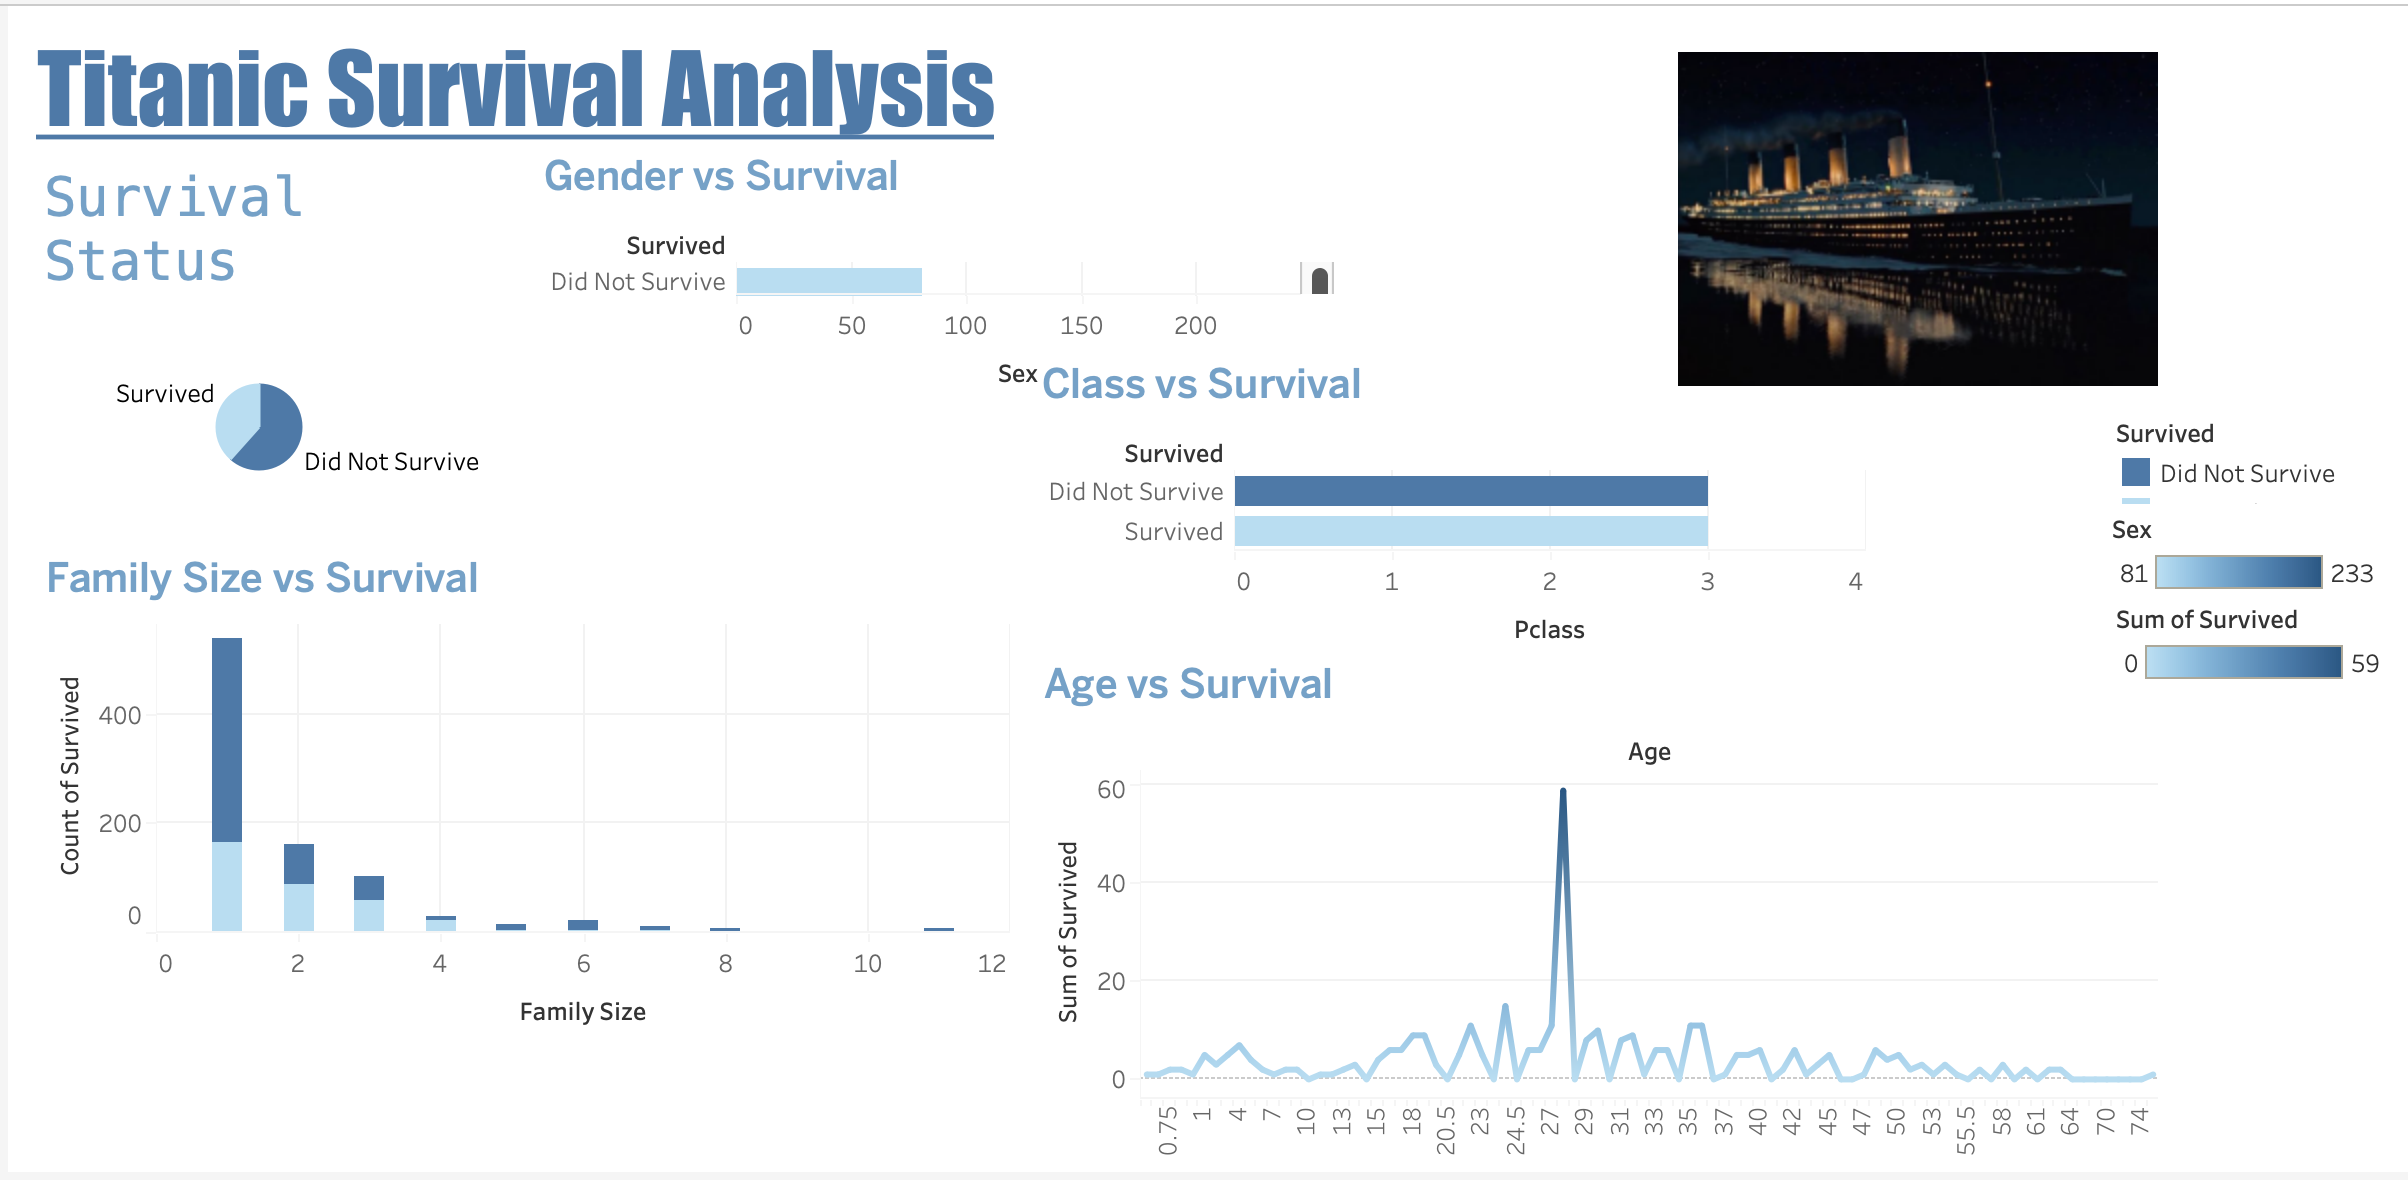

Layout of this report page (visuals, bound fields, positions):
{"tool":"tableau","page":{"name":"Dashboard 1","canvas":[1000,1000],"units":"permille","ordinal":0},"visuals":[{"type":"title","box":[6.5,12.5,987,104.5]},{"type":"image","param":"Image/Titanic.jpeg","box":[695.8,39.2,254.2,287.1]},{"type":"worksheet","title":"Sheet 2","mark":"Pie","box":[11.7,102.2,185.8,333.3]},{"type":"worksheet","title":"Sheet 3","mark":"Automatic","rows":["Survived"],"cols":["Sex"],"box":[272.5,114.9,332.5,222.7]},{"type":"worksheet","title":"Sheet 5","mark":"Bar","rows":["Survived"],"cols":["Pclass"],"box":[425.6,341.2,346.6,207]},{"type":"legend","title":"Sheet 2","param":"[federated.1gypfkj0oisvgd18frpbo100viwc].[none:Survived:ok]","box":[878,351.6,113.9,75.5]},{"type":"legend","title":"Sheet 3","param":"[federated.1gypfkj0oisvgd18frpbo100viwc].[sum:Sex:qk]","box":[876.7,434.2,113.3,98]},{"type":"worksheet","title":"Sheet 6","mark":"Bar","rows":["Survived"],"cols":["FamilySize"],"box":[12.5,463.6,405,425.8]},{"type":"legend","title":"Sheet 4","param":"[federated.1gypfkj0oisvgd18frpbo100viwc].[sum:Survived:qk]","box":[878,510.4,113.9,99]},{"type":"worksheet","title":"Sheet 4","mark":"Line","rows":["Survived"],"cols":["Age"],"box":[428,554.7,467.9,433.6]}]}

Visuals, with their boxes on the dashboard's canvas, which has no fixed pixel size, in thousandths of its width and height (x1, y1, x2, y2). These are canvas units, not pixel positions in the 2408x1180 screenshot, which may show the page scaled, cropped or inside an application window:
title: 6,12,994,117
image: 696,39,950,326
"Sheet 2" worksheet (Pie marks): 12,102,198,436
"Sheet 3" worksheet: 272,115,605,338
"Sheet 5" worksheet (Bar marks): 426,341,772,548
"Sheet 2" legend: 878,352,992,427
"Sheet 3" legend: 877,434,990,532
"Sheet 6" worksheet (Bar marks): 12,464,418,889
"Sheet 4" legend: 878,510,992,609
"Sheet 4" worksheet (Line marks): 428,555,896,988
